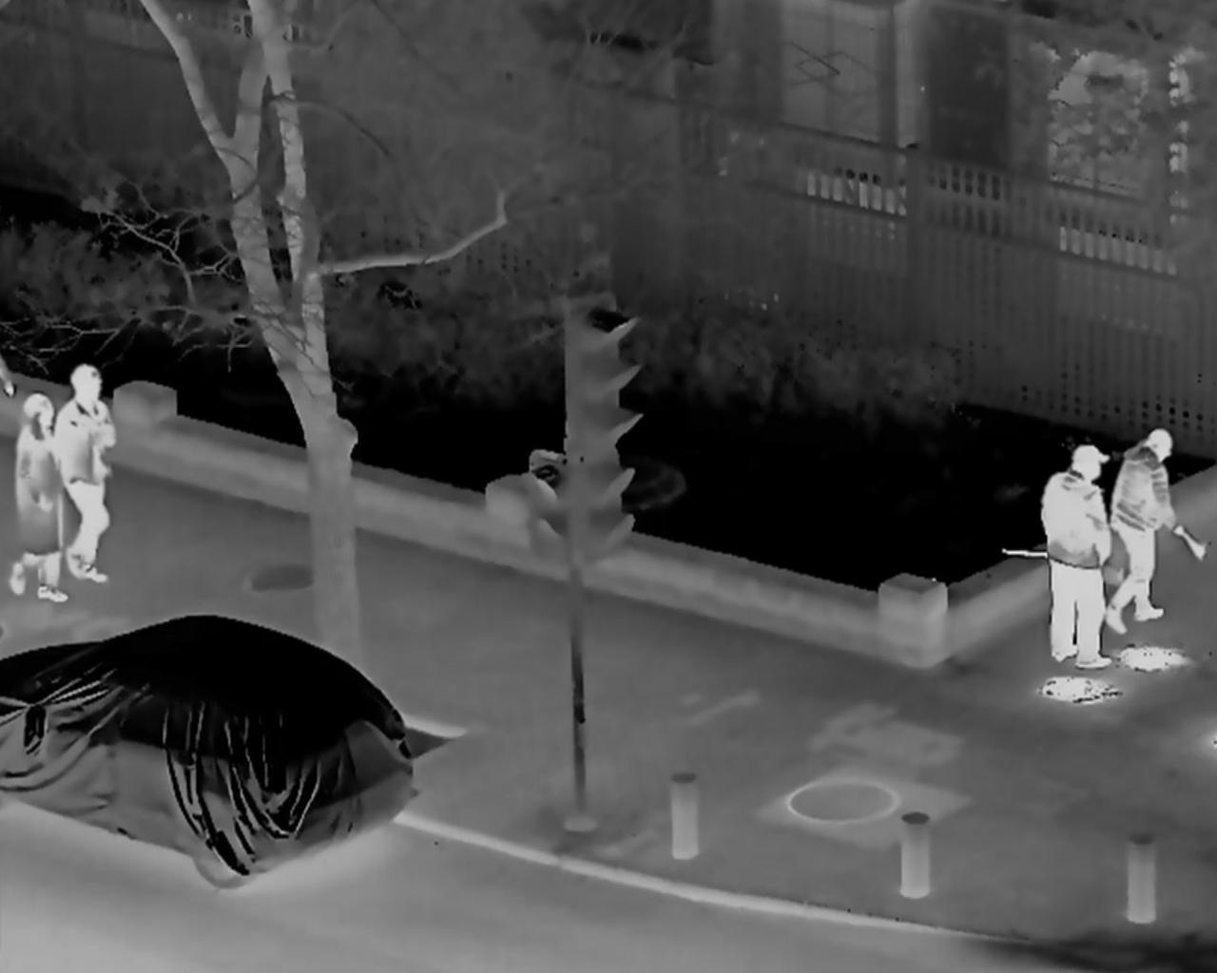person: (1035, 444, 1111, 671), (2, 393, 71, 604), (1106, 430, 1176, 632), (55, 363, 110, 583)
